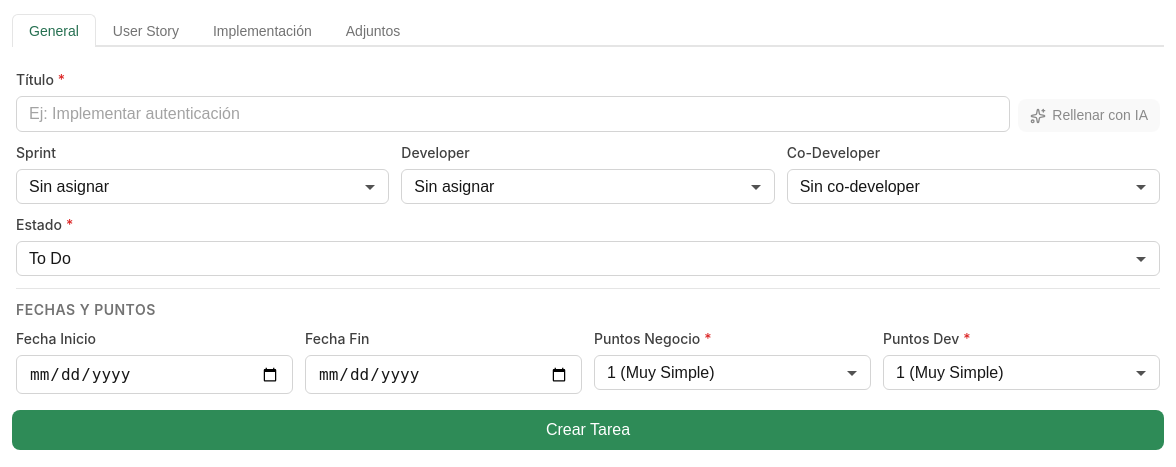
it: TaskForm Component › should show Attachments tab content when clicked
Click the button "Adjuntos".
click(373, 30)  # box [329, 14, 417, 47]
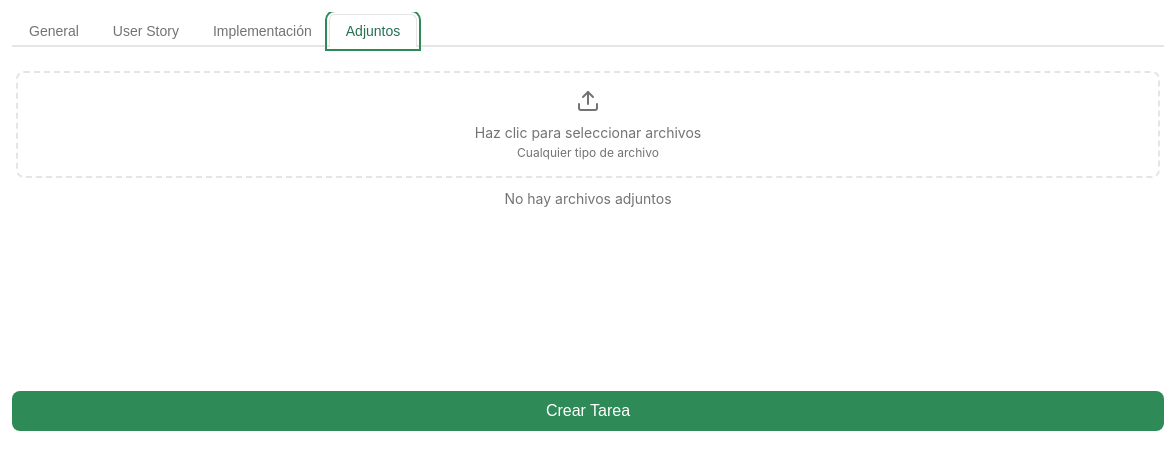
Now the text "Haz clic para seleccionar archivos" is shown, box [475, 124, 701, 141]
Now the text "No hay archivos adjuntos" is shown, box [504, 190, 672, 207]
